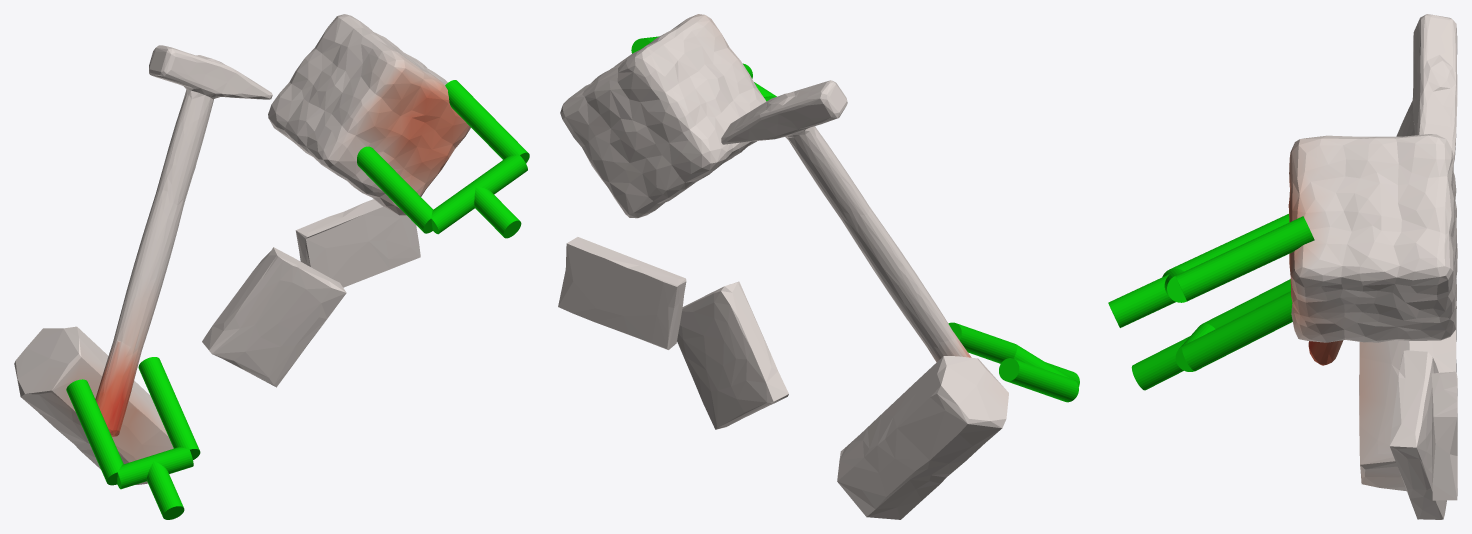
Rendered from round_000_trial_000.obj.
3 renders of one model, left to right at view 1: azimuth 30°, elevation 25°; view 2: azimuth 150°, elevation 25°; view 3: azimuth 270°, elevation 25°, orthographic. The views are drawn at different scales.
Parts seen in each view (by area): view 1: geometry_0, geometry_2, geometry_1; view 2: geometry_0, geometry_1; view 3: geometry_0, geometry_2, geometry_1.
Boxes of the visible parts, x1,y1,x2,y2 form: geometry_0: (14,14,470,484); geometry_2: (357,80,529,238); geometry_1: (66,357,200,519); geometry_0: (558,14,1008,519); geometry_1: (948,322,1079,402); geometry_0: (1288,14,1457,519); geometry_2: (1108,214,1314,327); geometry_1: (1131,279,1292,390).
Size of the model in its own units: 0.2094 by 0.1997 by 0.1235.
